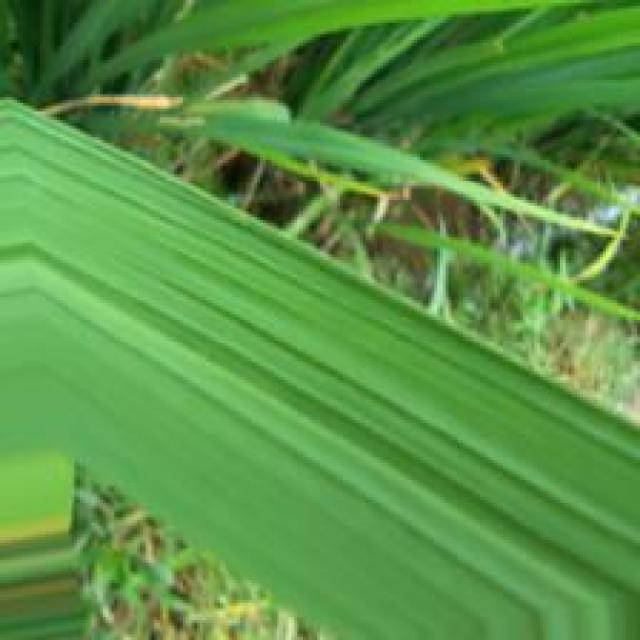HealthyLeaf: (6, 98, 638, 640)
